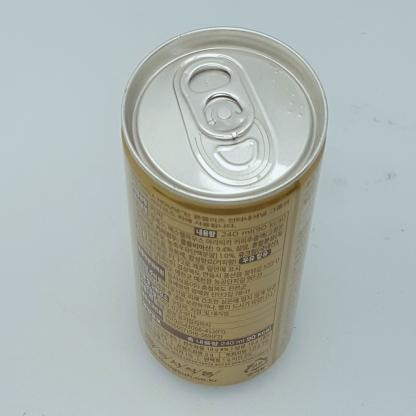-----------------240ML: (121, 26, 328, 386)
